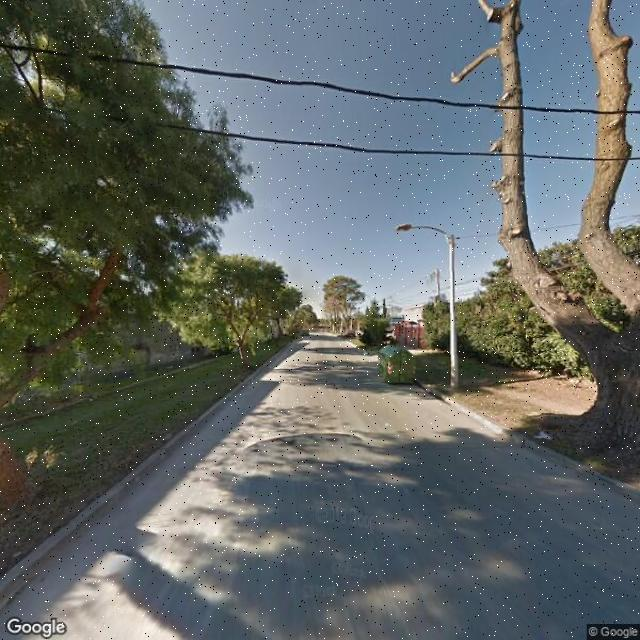garbage container: (374, 338, 421, 396)
